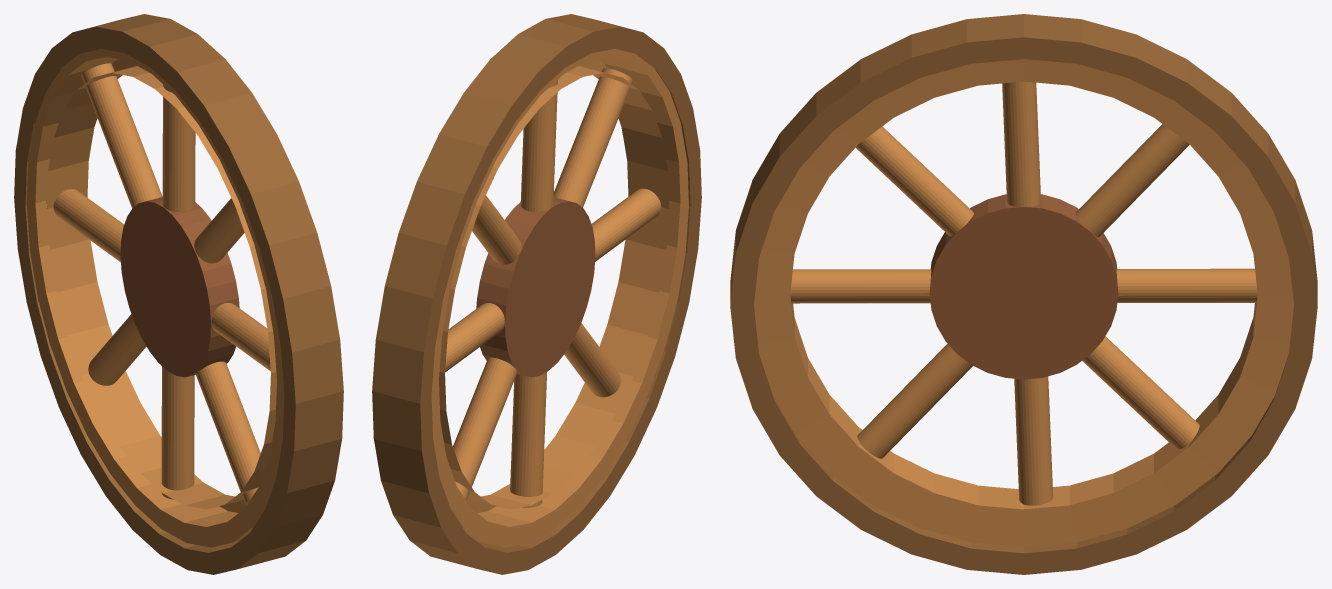
The model's file is wheel.fbx.
3 views of the same model, side by side, from view 1: azimuth 30°, elevation 25°; view 2: azimuth 150°, elevation 25°; view 3: azimuth 270°, elevation 25° (orthographic). The views are drawn at different scales.
Parts seen in each view (by area): view 1: Cylinder.082; view 2: Cylinder.082; view 3: Cylinder.082.
Boxes of the visible parts, x1=… form: Cylinder.082: x1=14, y1=14, x2=343, y2=574; Cylinder.082: x1=372, y1=14, x2=701, y2=574; Cylinder.082: x1=730, y1=14, x2=1317, y2=574.
Bounding box in the file's own units: 46.19 × 387 × 386.
